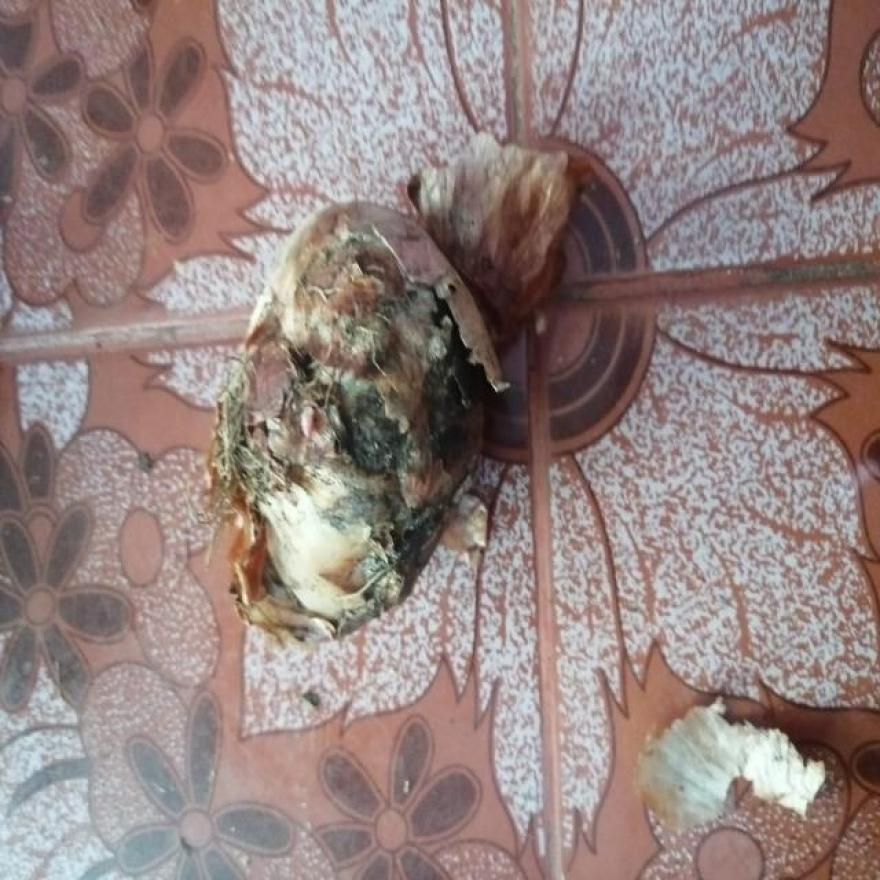Rotten: (300, 337, 451, 557)
